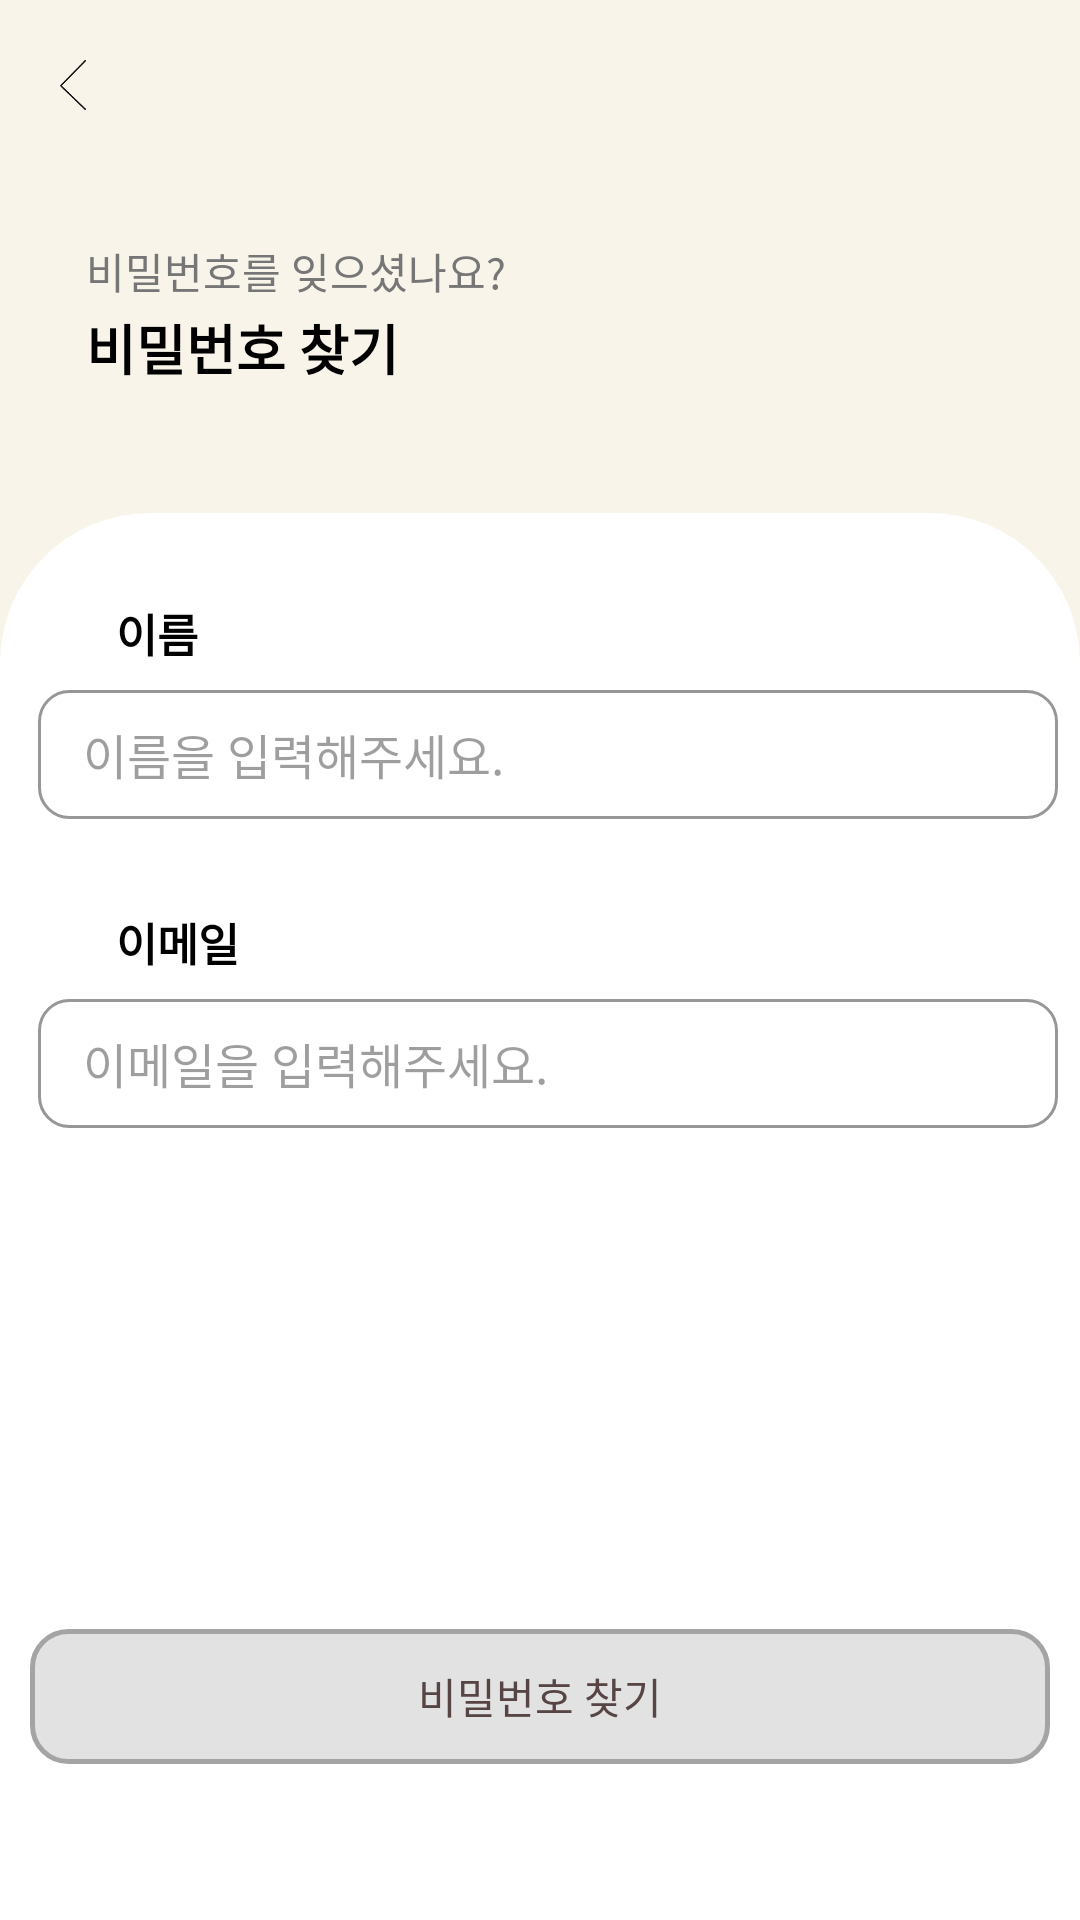

Where icons sit on this 1080w x 1920h app screen, as (x1, y1, x2, y2):
backbtn: (60, 60, 86, 110)
